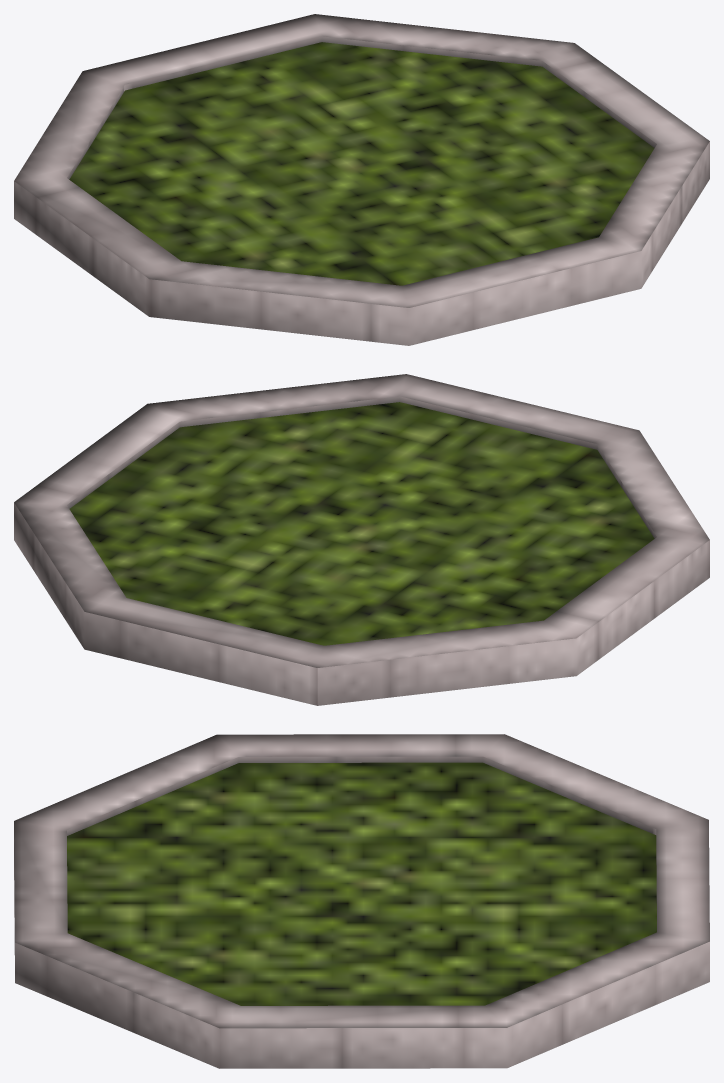
The model's file is Ambi4.fbx.
The picture shows the model from 3 angles, top to bottom: view 1: azimuth 30°, elevation 25°; view 2: azimuth 150°, elevation 25°; view 3: azimuth 270°, elevation 25°; orthographic projection. The views are drawn at different scales.
Visible parts, largest first — view 1: polySurface6378.003; view 2: polySurface6378.003; view 3: polySurface6378.003.
Part boxes in pixels (x1=…): polySurface6378.003: x1=14, y1=14, x2=709, y2=345; polySurface6378.003: x1=14, y1=374, x2=709, y2=705; polySurface6378.003: x1=14, y1=734, x2=709, y2=1068.
Bounding box in the file's own units: 0.0366 × 0.00235 × 0.0366.
